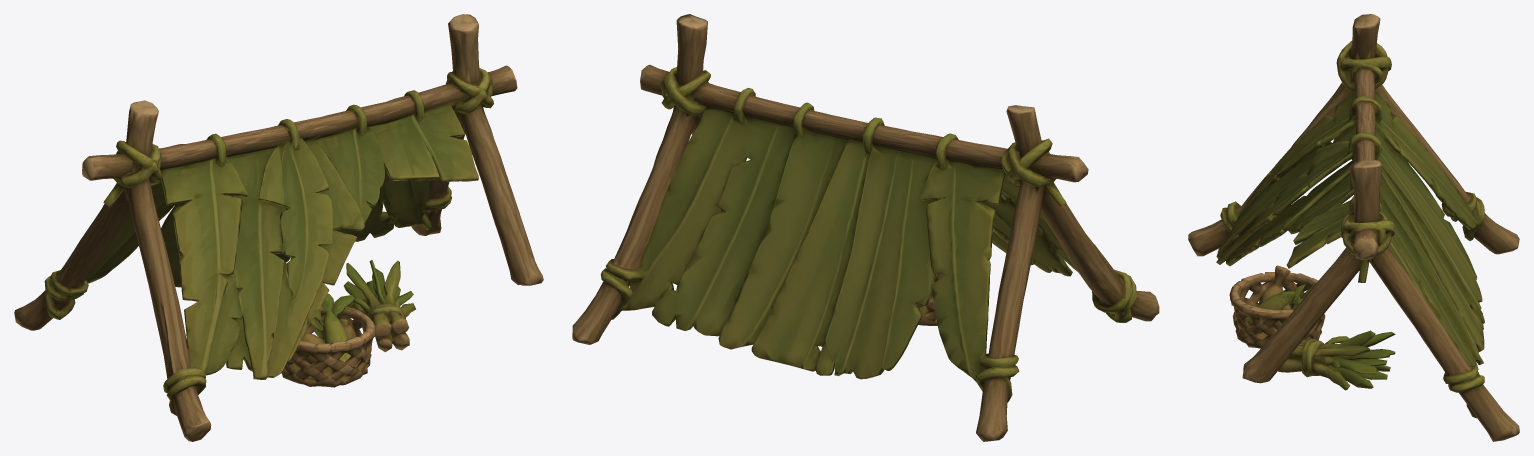
The model's file is Foraging Tent (South Asian).fbx.
3 views of the same model, side by side, from view 1: azimuth 30°, elevation 25°; view 2: azimuth 150°, elevation 25°; view 3: azimuth 270°, elevation 25° (orthographic). The views are drawn at different scales.
Visible parts, largest first — view 1: tripo_node_ab0bb1d6; view 2: tripo_node_ab0bb1d6; view 3: tripo_node_ab0bb1d6.
Part boxes in pixels (x1,y1,x2,y2): tripo_node_ab0bb1d6: (14,14,543,441); tripo_node_ab0bb1d6: (572,14,1159,441); tripo_node_ab0bb1d6: (1188,14,1519,441).
Bounding box in the file's own units: 1 × 0.6129 × 0.6986.
